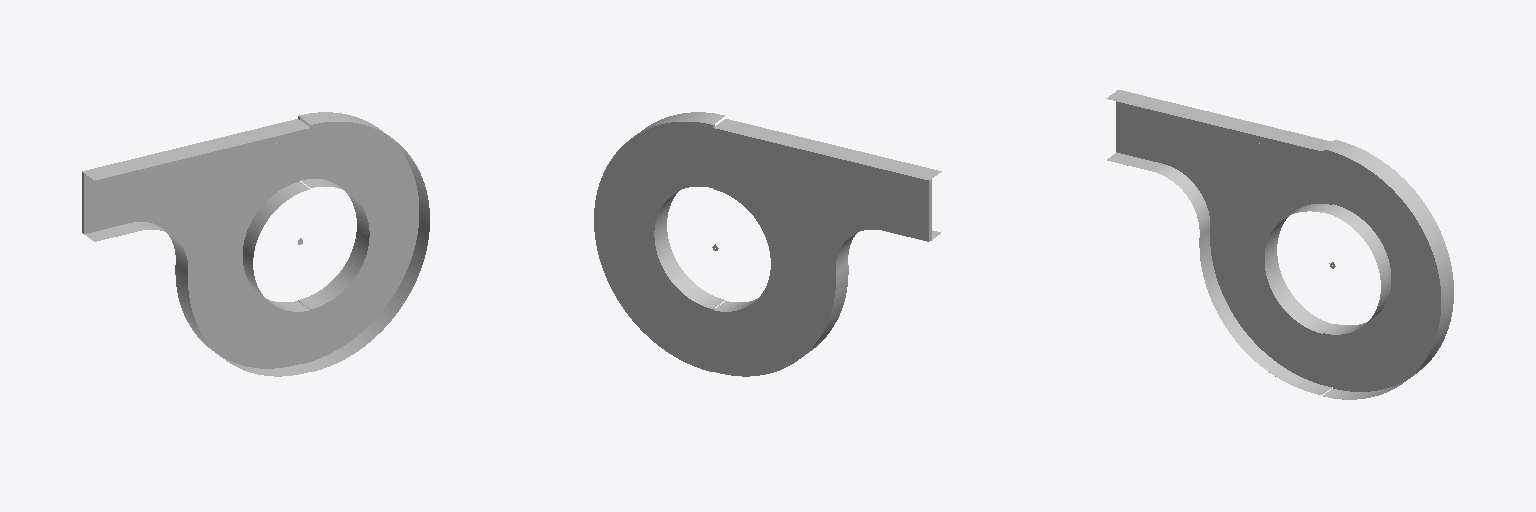
File: Small Oval.obj
3 views of the same model, side by side, from view 1: azimuth 30°, elevation 25°; view 2: azimuth 150°, elevation 25°; view 3: azimuth 330°, elevation 25° (orthographic).
Parts seen in each view (by area): view 1: Body1:1, Body1, Body3, Body2:1, Body3:1, Body2, Body4; view 2: Body1:1, Body1, Body2:1, Body2, Body3:1; view 3: Body1:1, Body1, Body3:1, Body3, Body2:1, Body2, Body4.
Boxes of the visible parts, box(x1,y1,x2,y2) form: Body1:1: box(82, 119, 299, 368); Body1: box(298, 112, 418, 363); Body3: box(301, 114, 429, 371); Body2:1: box(85, 120, 309, 180); Body3:1: box(84, 222, 310, 376); Body2: box(300, 179, 369, 308); Body4: box(243, 182, 309, 311); Body1:1: box(713, 126, 931, 376); Body1: box(594, 120, 714, 371); Body2:1: box(716, 119, 941, 178); Body2: box(657, 191, 724, 307); Body3:1: box(803, 230, 940, 356); Body1:1: box(1116, 90, 1333, 386); Body1: box(1333, 140, 1453, 391); Body3:1: box(1107, 152, 1332, 394); Body3: box(1323, 141, 1451, 399); Body2:1: box(1106, 91, 1328, 150); Body2: box(1323, 204, 1390, 334); Body4: box(1264, 204, 1330, 333).
Size of the model in its own units: 4.65 by 3.28 by 0.3048.